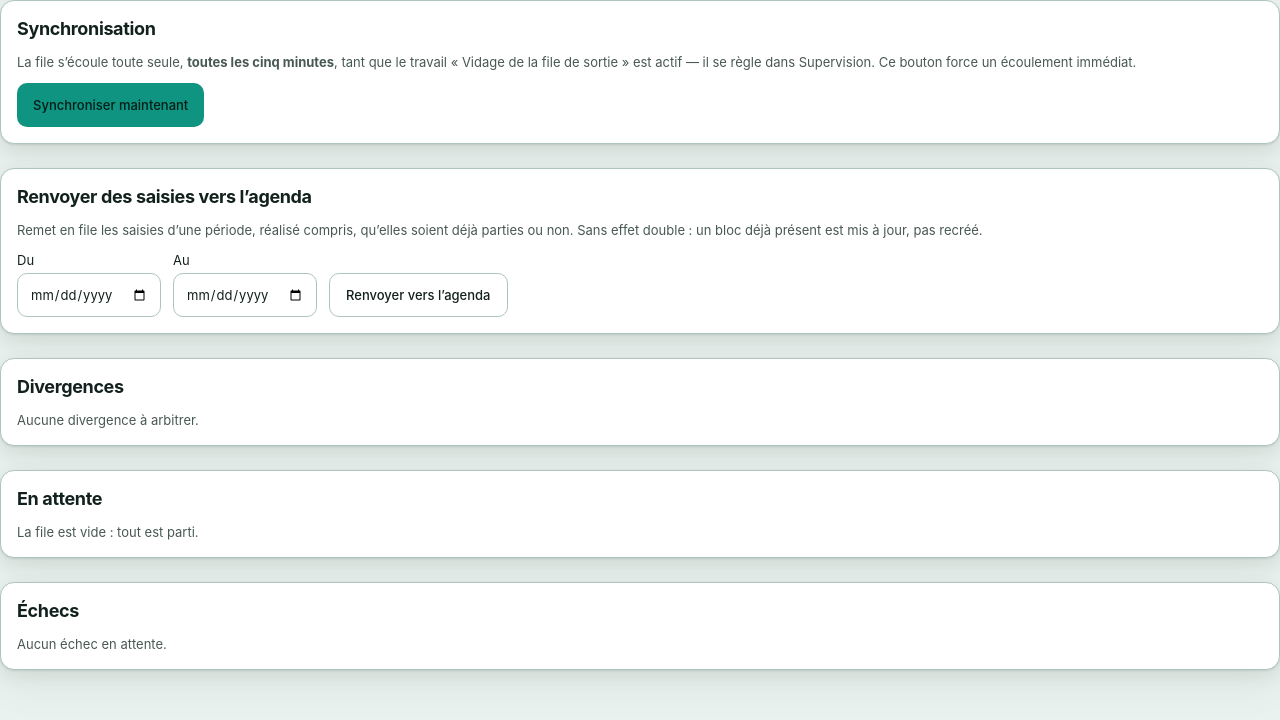
synchroniser maintenant › ne parle pas de reste quand la file est vidée
Click the button "Synchroniser maintenant". click: (111, 105)
box: [17, 83, 204, 127]
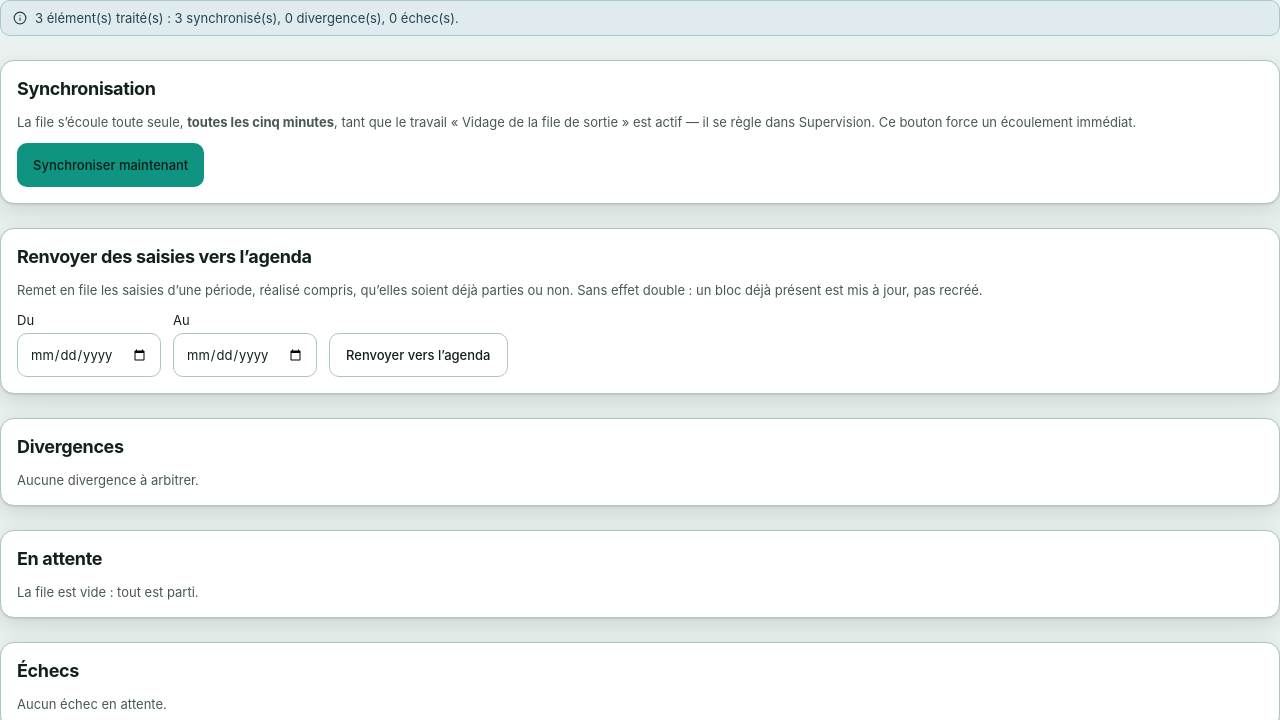
Now the message "3 élément(s) traité(s) : 3 synchronisé(s), 0 divergence(s), 0 échec(s)." is shown, box [0, 0, 1279, 36]
